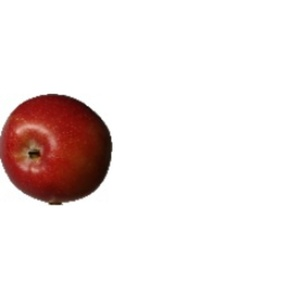maçã braeburn: (1, 92, 114, 205)
